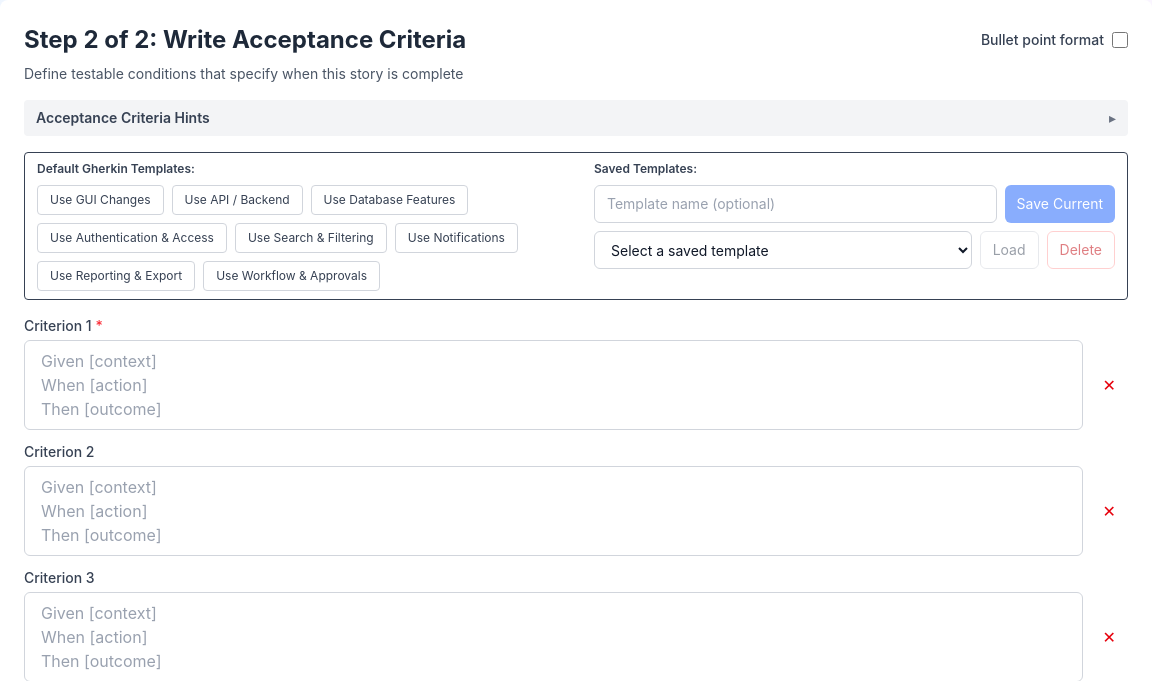
Scenario: AcceptanceCriteriaForm › should show a blur hint when a criterion does not start with a Gherkin keyword
The width and height of the screenshot is (1152, 681).
Type "User logs in to the system" into the text box labelled "Criterion 1 *" at (553, 385), box 24,340 -> 1083,430
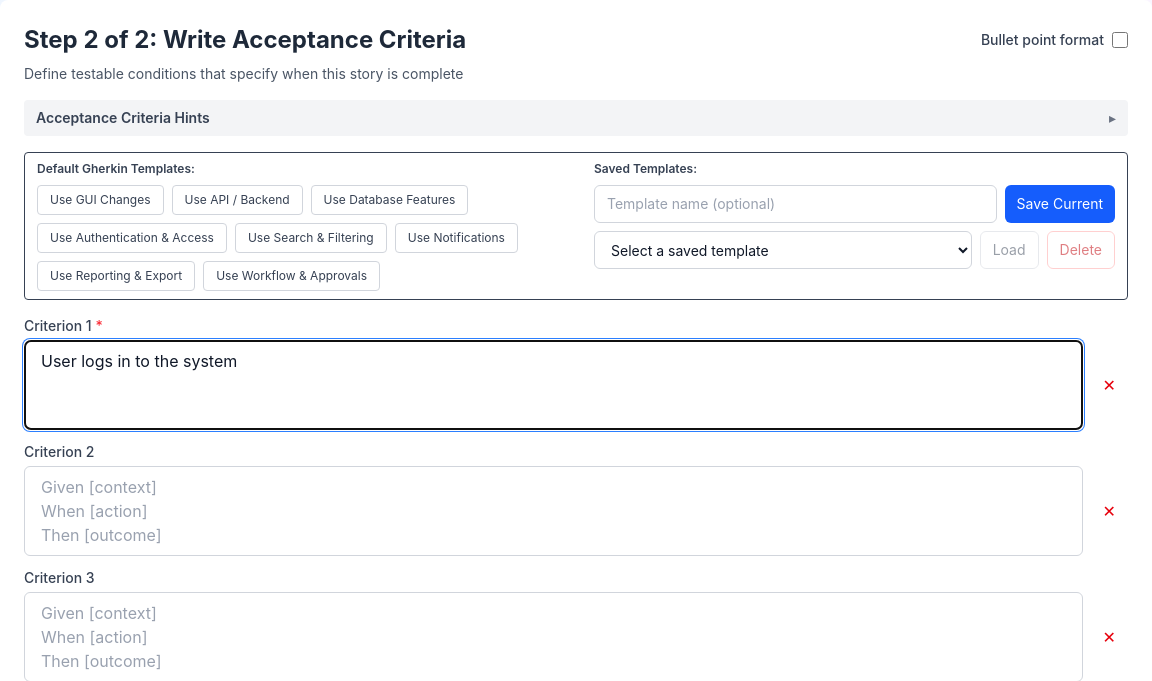
Press Tab
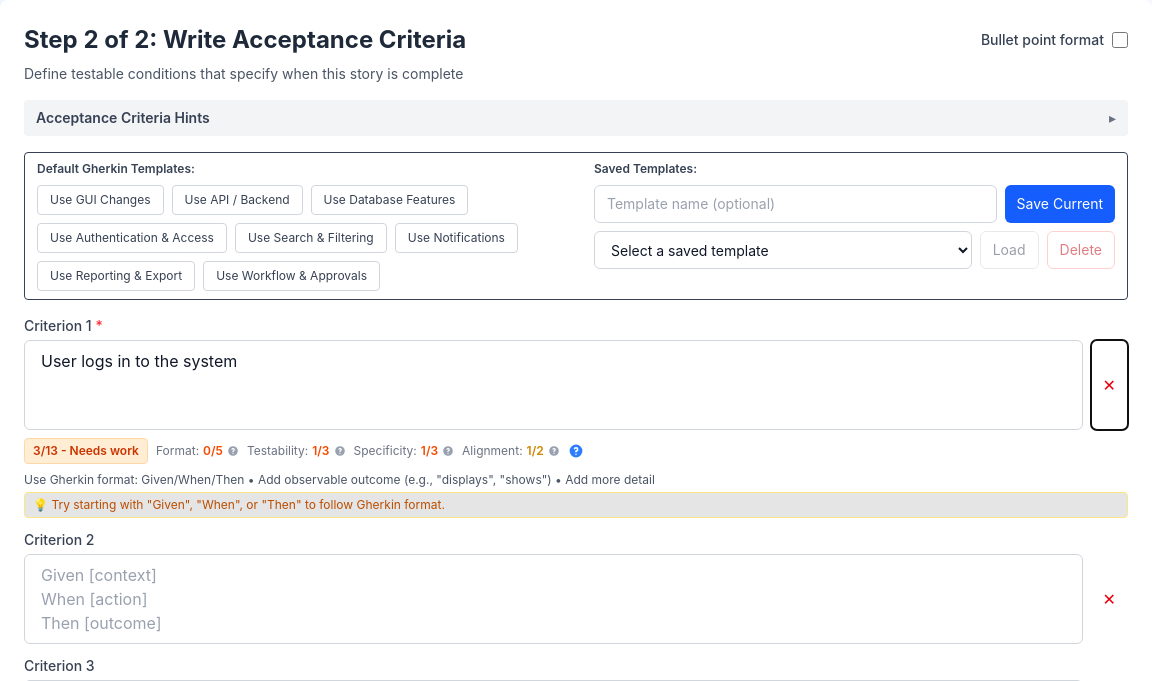
Check: the text "💡 Try starting with \"Given\", \"When\", or \"Then\" to follow Gherkin format." is shown, box 24,492 -> 1128,518
